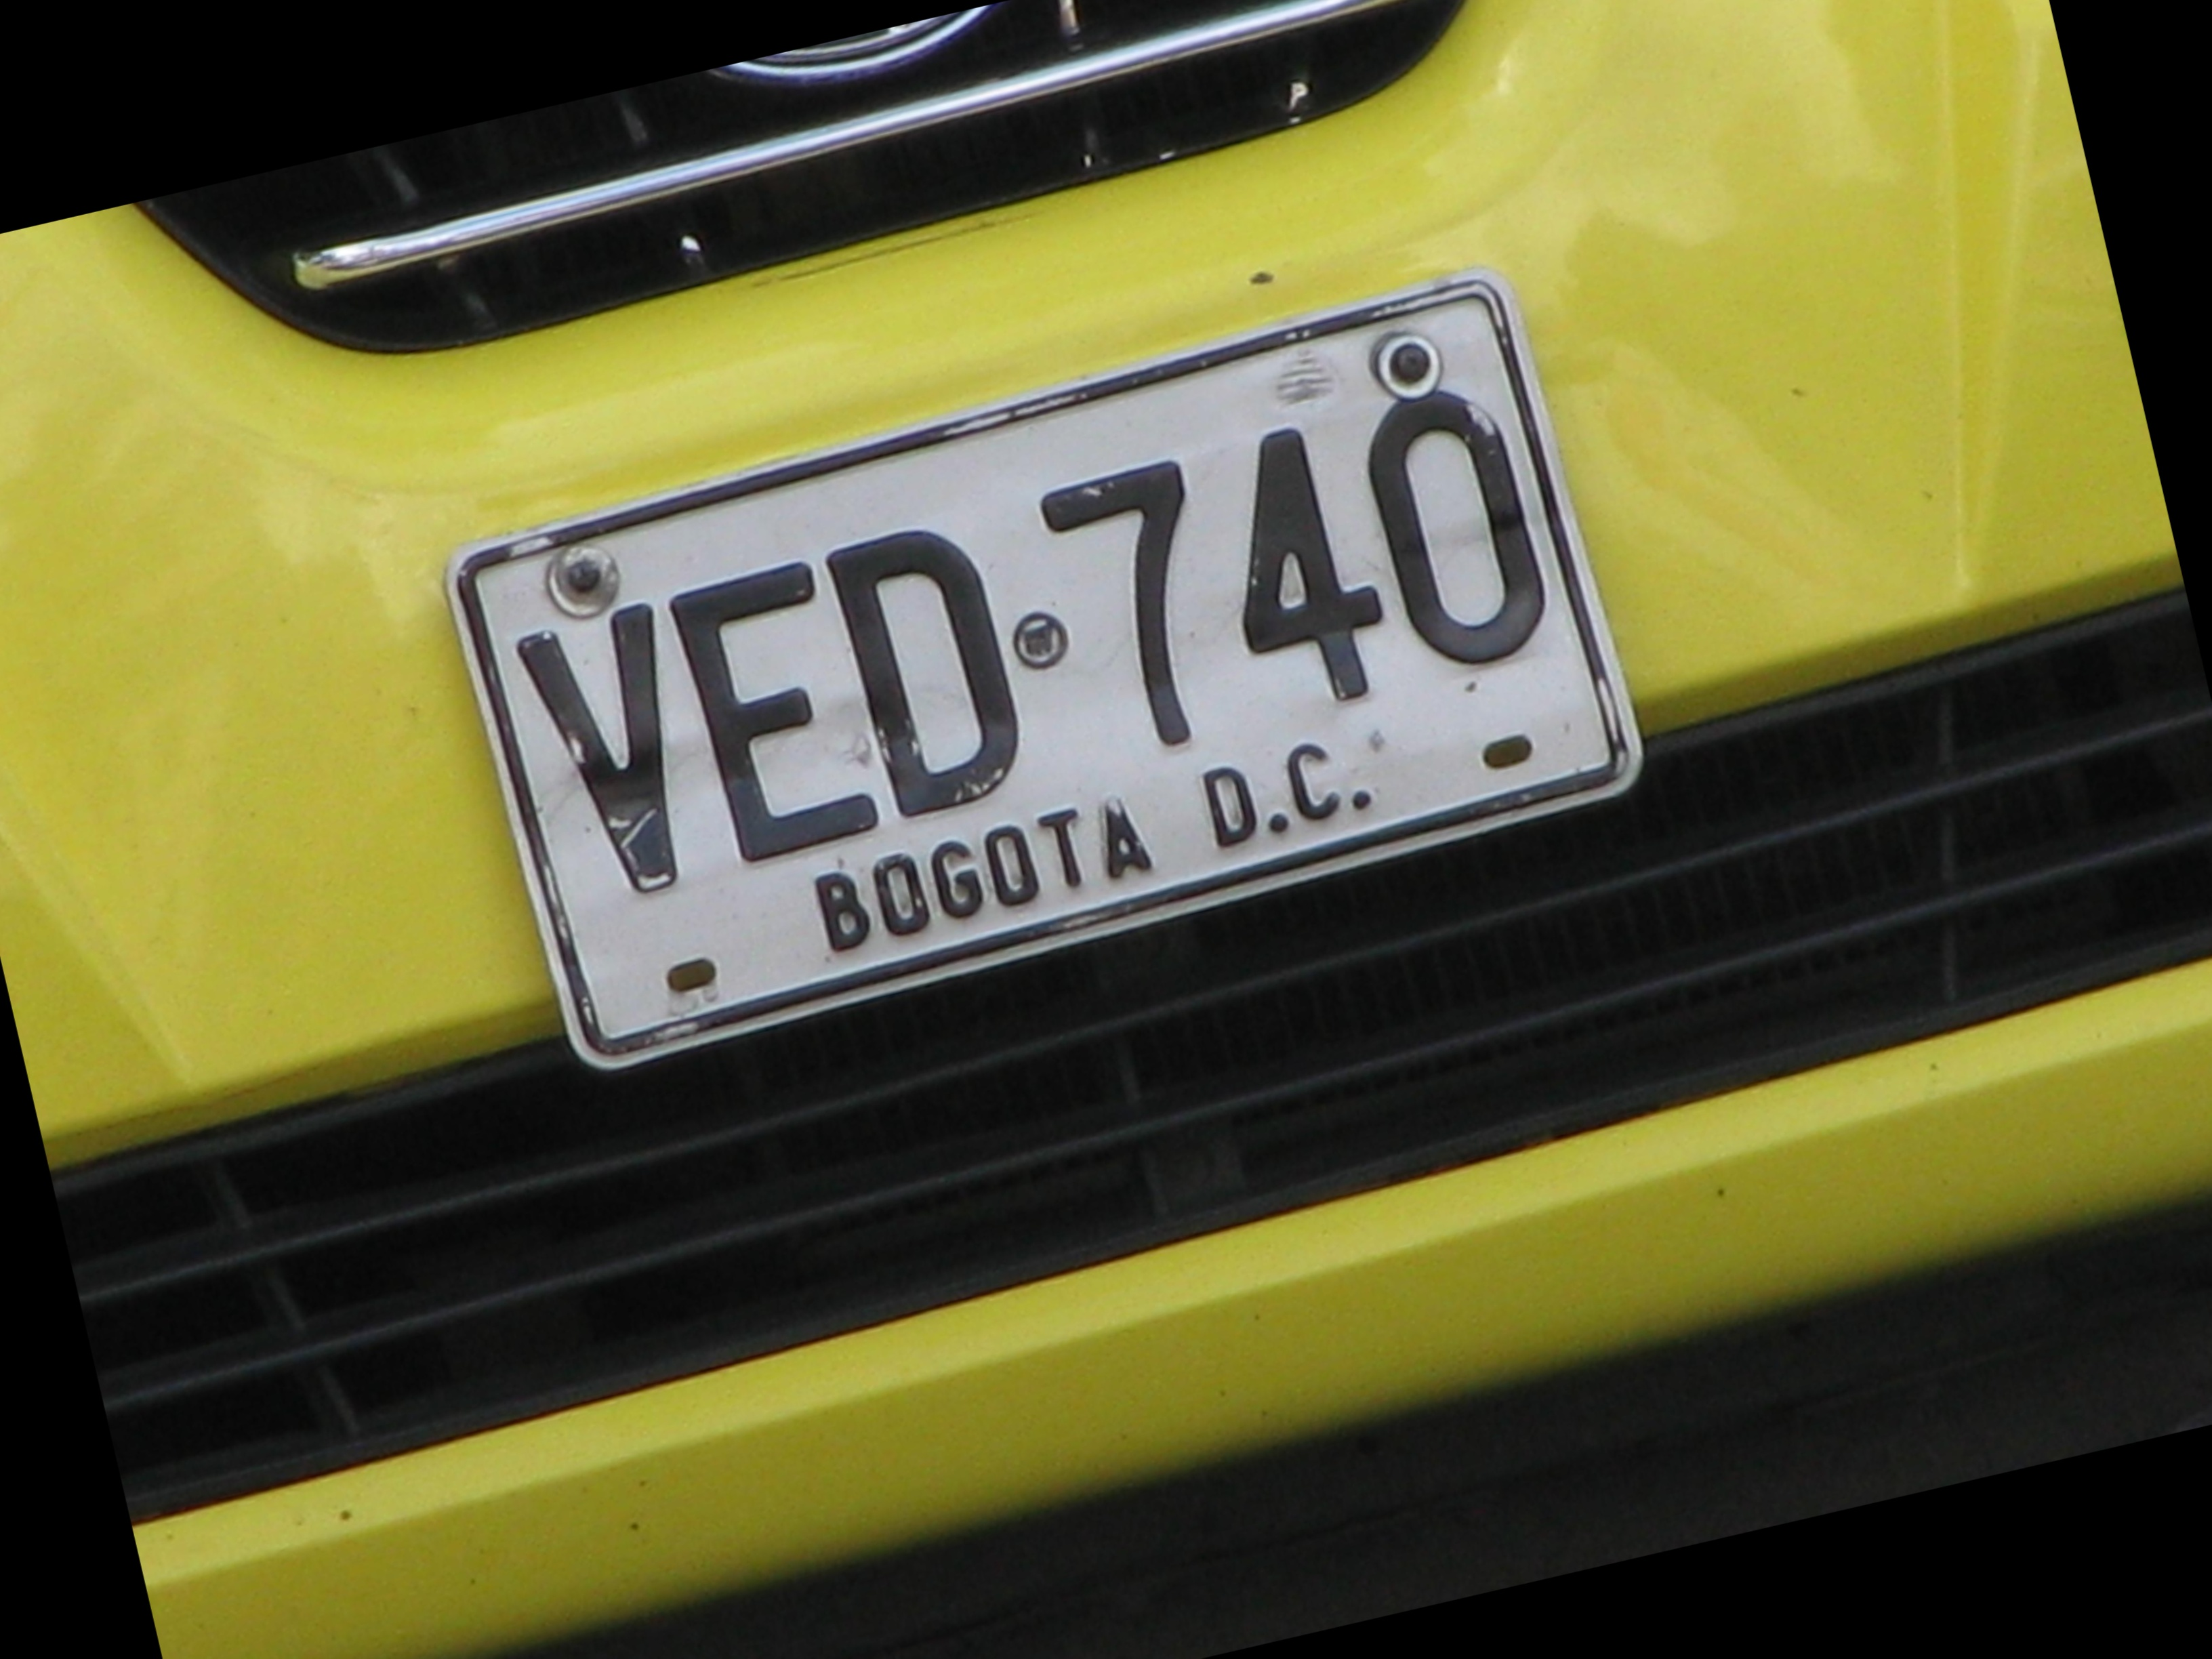placas: (409, 241, 1675, 1094)
